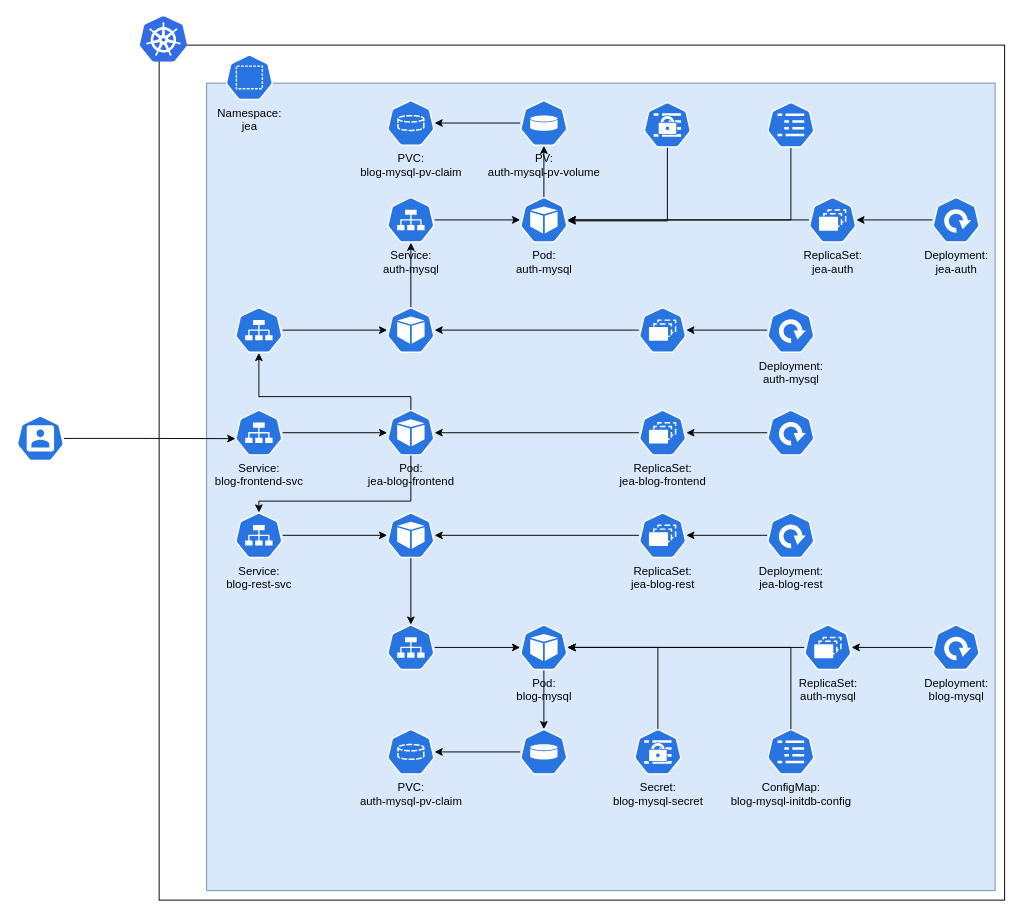
The diagram is 1021 pixels wide and 917 high, and some of its shapes have lost their labels. Each missing label, with the centre of its shape:
"ConfigMap: auth-mysql-initdb-config" belongs at (790,124).
"Deployment: jea-blog-frontend" belongs at (790,432).
"Pod: jea-auth" belongs at (410,329).
"Pod: jea-blog-rest" belongs at (410,535).
"PV: blog-mysql-pv-volume" belongs at (543,751).
"ReplicaSet: blog-mysql" belongs at (662,329).
"Secret: auth-mysql-secret" belongs at (667,124).
"Service: auth-svc" belongs at (258,329).
"Service: blog-mysql" belongs at (410,647).
"User" belongs at (40,438).
